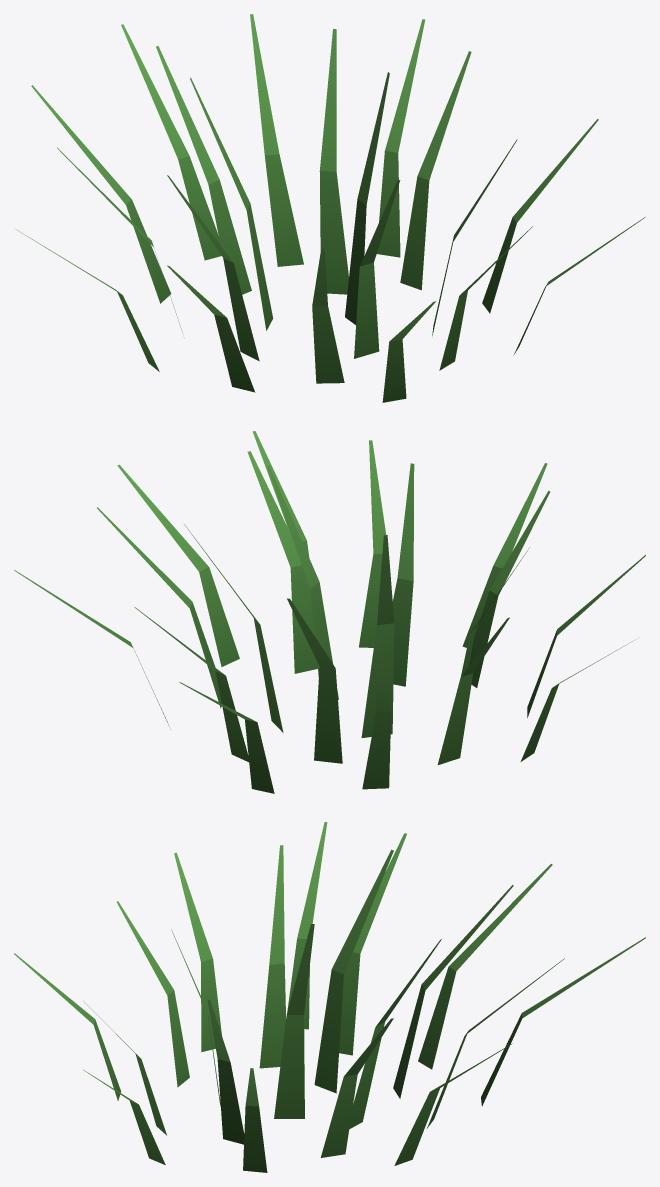
Rendered from grass_vat.glb.
3 renders of one model, top to bottom at view 1: azimuth 30°, elevation 25°; view 2: azimuth 150°, elevation 25°; view 3: azimuth 270°, elevation 25°, orthographic. The views are drawn at different scales.
Visible parts, largest first — view 1: GrassVAT; view 2: GrassVAT; view 3: GrassVAT.
Boxes of the visible parts, left/top/right/bottom form: GrassVAT: left=16, top=14, right=645, bottom=402; GrassVAT: left=14, top=431, right=645, bottom=793; GrassVAT: left=14, top=822, right=645, bottom=1172.
Bounding box in the file's own units: 0.917 × 0.3724 × 0.9745.
